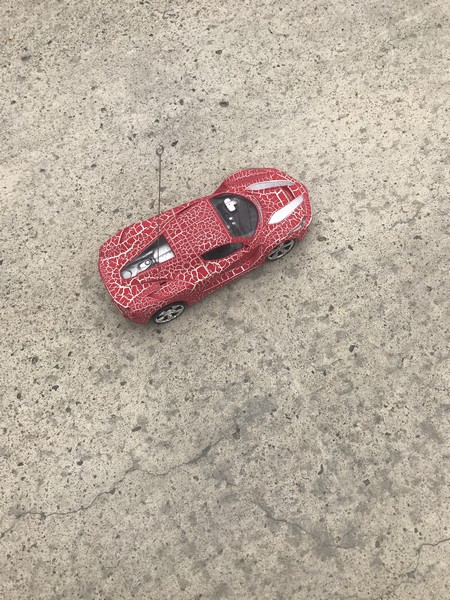RC: (96, 166, 316, 328)
